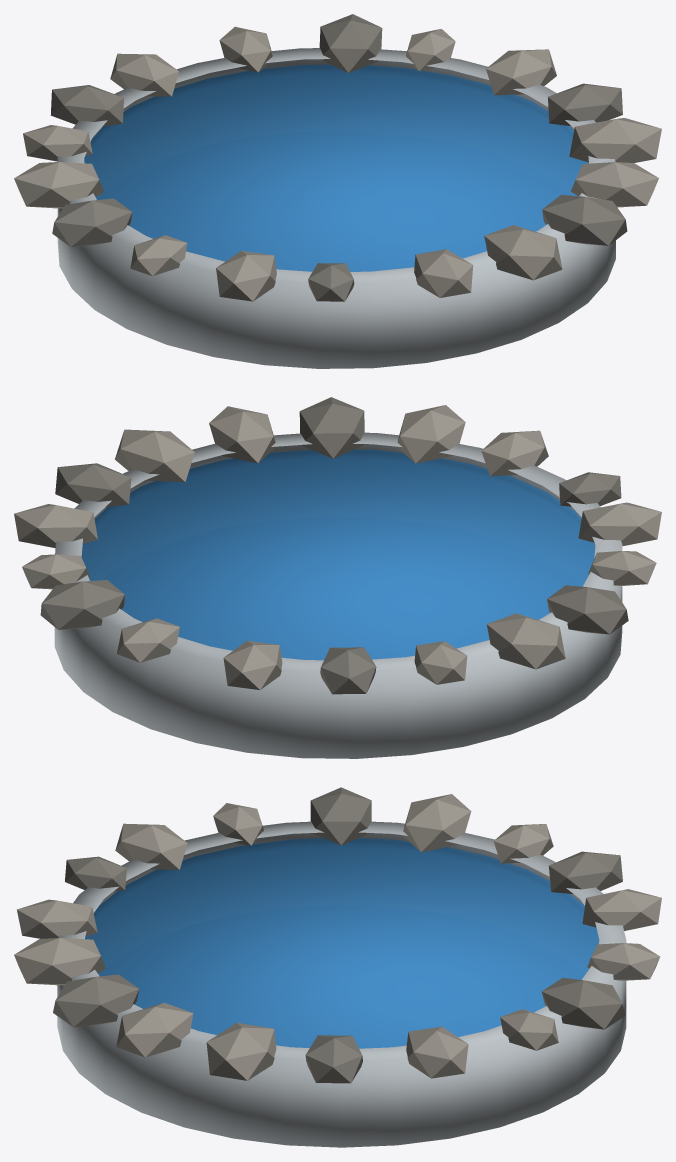
Rendered from pond.glb.
3 views of the same model, one above another, from view 1: azimuth 30°, elevation 25°; view 2: azimuth 150°, elevation 25°; view 3: azimuth 270°, elevation 25° (orthographic).
Parts seen in each view (by area): view 1: Pond_Water, Pond_Wall, Pond_Stone.017, Pond_Stone.015, Pond_Stone.008, Pond_Stone.014, Pond_Stone.016, Pond_Stone.009, Pond_Stone.003, Pond_Stone, Pond_Stone.011, Pond_Stone.001 (+8 smaller); view 2: Pond_Water, Pond_Wall, Pond_Stone.003, Pond_Stone.008, Pond_Stone.017, Pond_Stone.015, Pond_Stone.009, Pond_Stone.014, Pond_Stone.001, Pond_Stone.011, Pond_Stone.016, Pond_Stone (+8 smaller); view 3: Pond_Water, Pond_Wall, Pond_Stone.015, Pond_Stone.014, Pond_Stone.017, Pond_Stone.003, Pond_Stone.016, Pond_Stone.008, Pond_Stone.009, Pond_Stone.001, Pond_Stone.005, Pond_Stone.013 (+8 smaller).
Part boxes in pixels (left/top/right/bottom): Pond_Water: left=84, top=64, right=588, bottom=271; Pond_Wall: left=57, top=48, right=615, bottom=368; Pond_Stone.017: left=569, top=118, right=661, bottom=162; Pond_Stone.015: left=542, top=195, right=627, bottom=245; Pond_Stone.008: left=14, top=162, right=103, bottom=208; Pond_Stone.014: left=484, top=225, right=562, bottom=280; Pond_Stone.016: left=570, top=162, right=658, bottom=207; Pond_Stone.009: left=52, top=198, right=132, bottom=247; Pond_Stone.003: left=319, top=14, right=382, bottom=72; Pond_Stone: left=548, top=83, right=622, bottom=125; Pond_Stone.011: left=216, top=250, right=276, bottom=301; Pond_Stone.001: left=486, top=49, right=556, bottom=95; Pond_Water: left=81, top=449, right=595, bottom=660; Pond_Wall: left=54, top=432, right=622, bottom=758; Pond_Stone.003: left=40, top=580, right=124, bottom=629; Pond_Stone.008: left=486, top=613, right=565, bottom=669; Pond_Stone.017: left=115, top=429, right=194, bottom=482; Pond_Stone.015: left=299, top=397, right=364, bottom=458; Pond_Stone.009: left=547, top=585, right=628, bottom=634; Pond_Stone.014: left=396, top=405, right=465, bottom=463; Pond_Stone.001: left=14, top=504, right=97, bottom=548; Pond_Stone.011: left=578, top=502, right=661, bottom=546; Pond_Stone.016: left=209, top=406, right=276, bottom=463; Pond_Stone: left=55, top=463, right=131, bottom=506; Pond_Water: left=85, top=838, right=599, bottom=1048; Pond_Wall: left=57, top=821, right=626, bottom=1147; Pond_Stone.015: left=53, top=974, right=139, bottom=1027; Pond_Stone.014: left=14, top=938, right=105, bottom=985; Pond_Stone.017: left=206, top=1023, right=276, bottom=1080; Pond_Stone.003: left=541, top=977, right=625, bottom=1029; Pond_Stone.016: left=116, top=1002, right=193, bottom=1057; Pond_Stone.008: left=402, top=794, right=471, bottom=852; Pond_Stone.009: left=310, top=787, right=371, bottom=845; Pond_Stone.001: left=406, top=1026, right=468, bottom=1078; Pond_Stone.005: left=582, top=889, right=661, bottom=930; Pond_Stone.013: left=17, top=899, right=97, bottom=938.
Size of the model in its own units: 2.21 by 0.4192 by 2.16.
